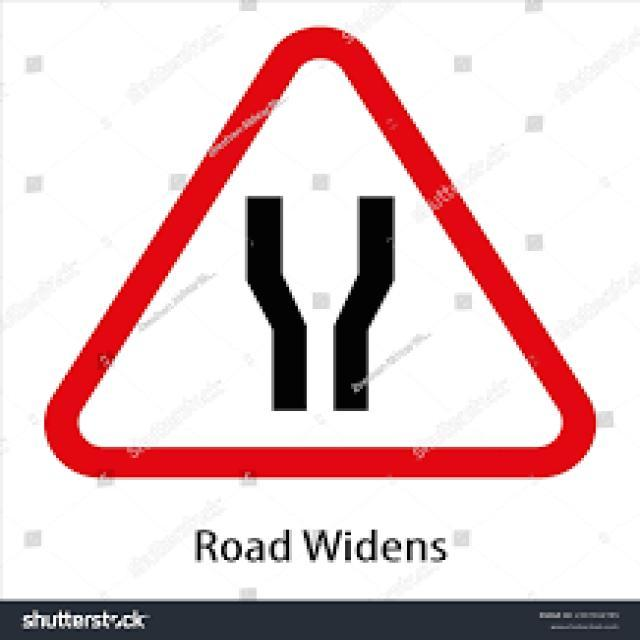road widens ahead: (46, 24, 600, 479)
